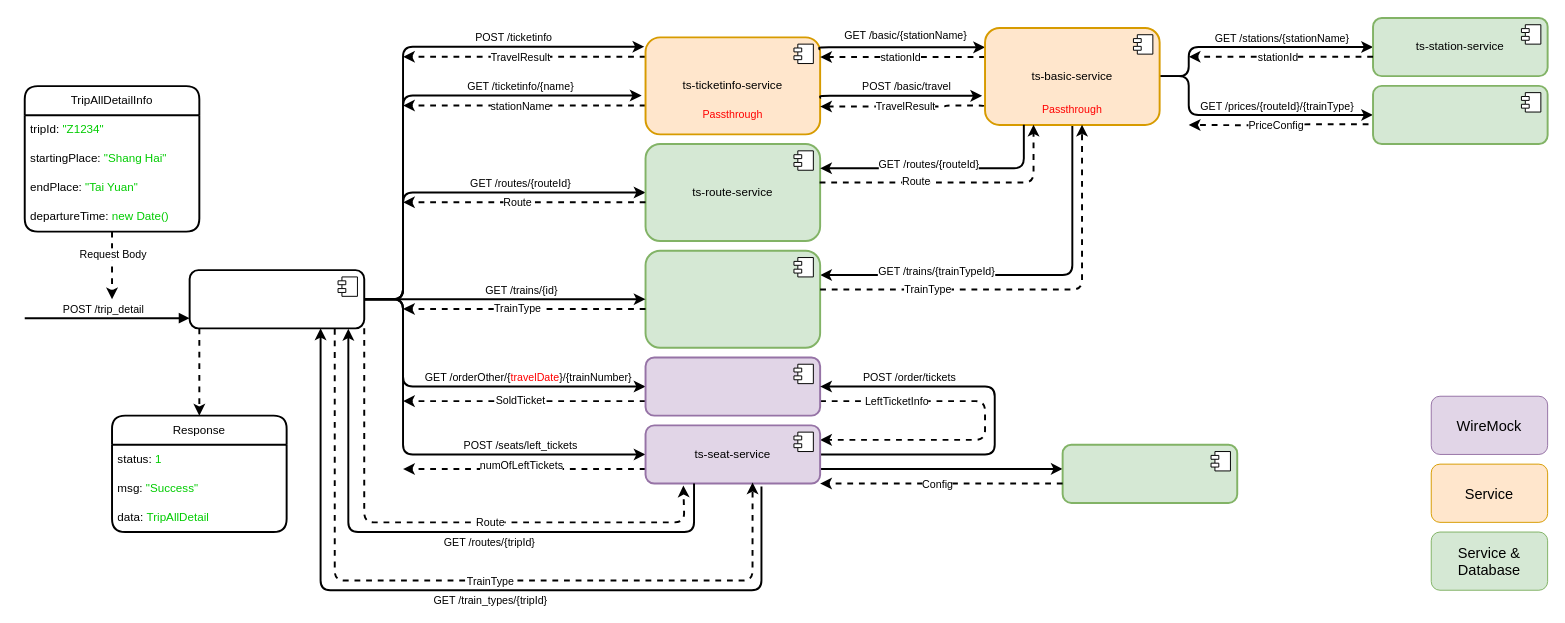
Some shapes in this 1565 by 623 pixel diagram are drawn without their labels. Here are the shapes that lost their labels. From the top down, the centre of each, then its label:
At point (1460, 114): "ts-price-service".
At point (276, 299): "ts-travel2-service".
At point (732, 298): "ts-train-service".
At point (732, 386): "ts-order-other-service".
At point (1149, 473): "ts-config-service".
